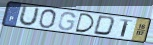D: (92, 15, 116, 37), (75, 12, 95, 34)
G: (57, 11, 77, 32)
O: (38, 9, 58, 29)
T: (119, 18, 134, 38)
U: (17, 5, 41, 27)
